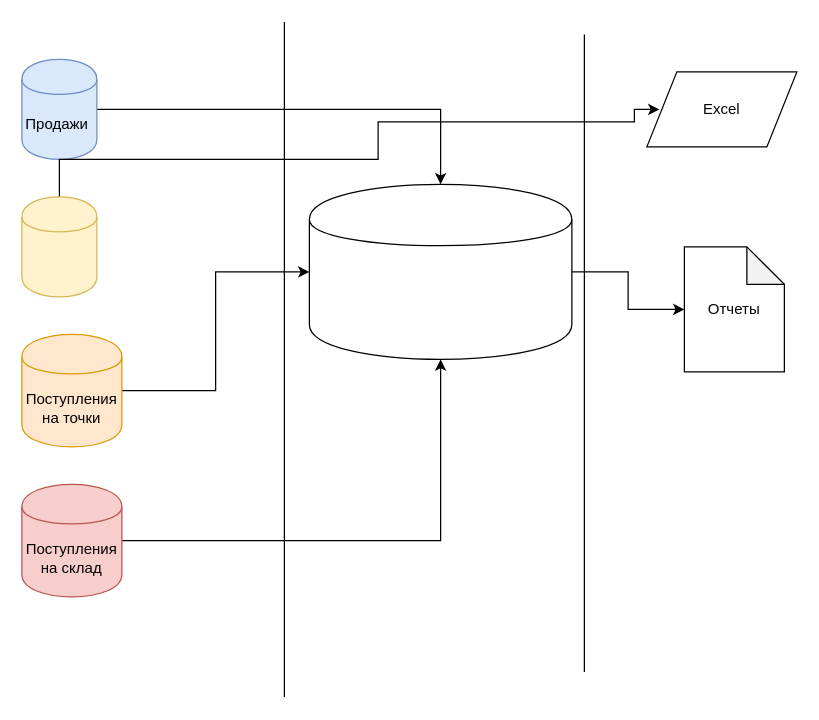
Image size: 819x720. Some labels were removed from this diagram. Here are the shapes that lost their labels. From the top down, the centre of each, then its label:
At (x=59, y=246): "Замеры остатков".
At (x=440, y=271): "1С".
